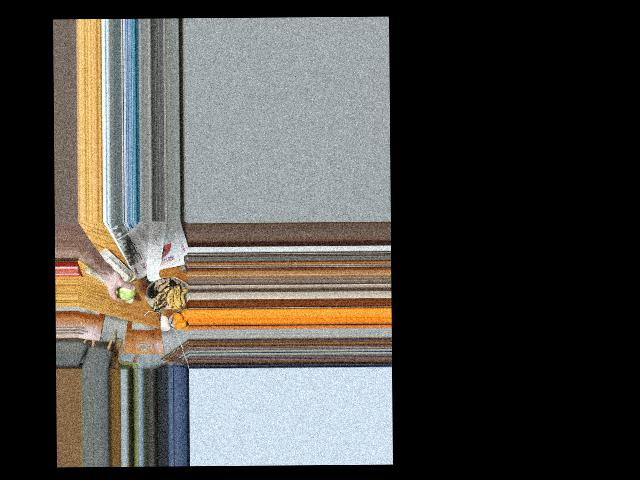apple: (113, 276, 134, 299)
